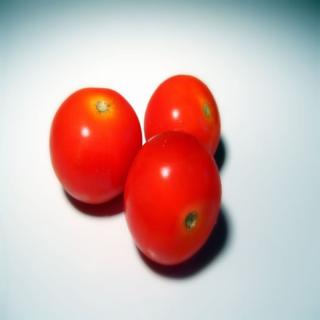tomato: (121, 124, 220, 270), (46, 86, 142, 204), (143, 74, 223, 156)
